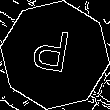P_S: (32, 27, 78, 83)
